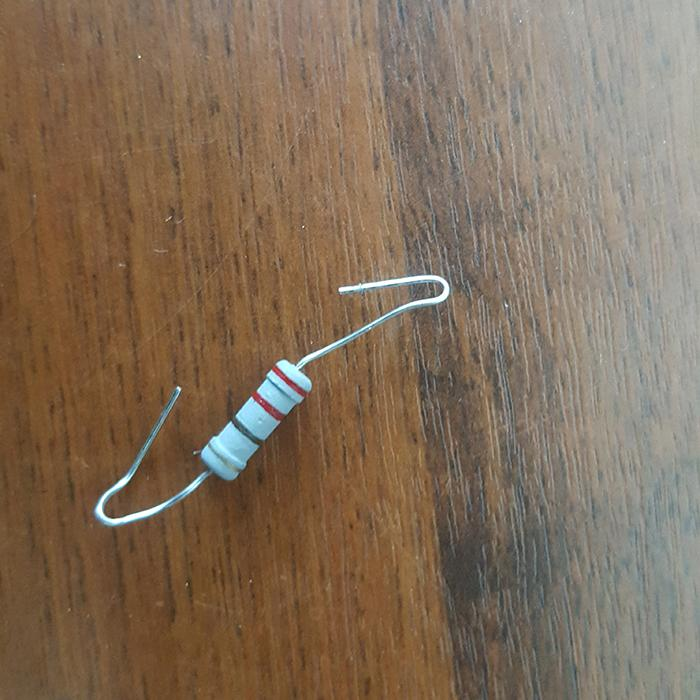resistor: (199, 358, 311, 481)
